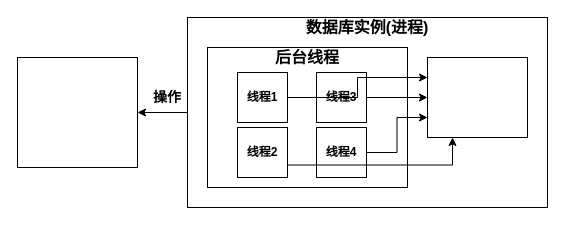
This 565x225 diagram has some shape labels left out. Here are the shapes that lost their labels. From the top down, the box of each, then its label:
(16, 56, 138, 168): 数据库文件 (磁盘)
(426, 56, 528, 138): 共享内存
